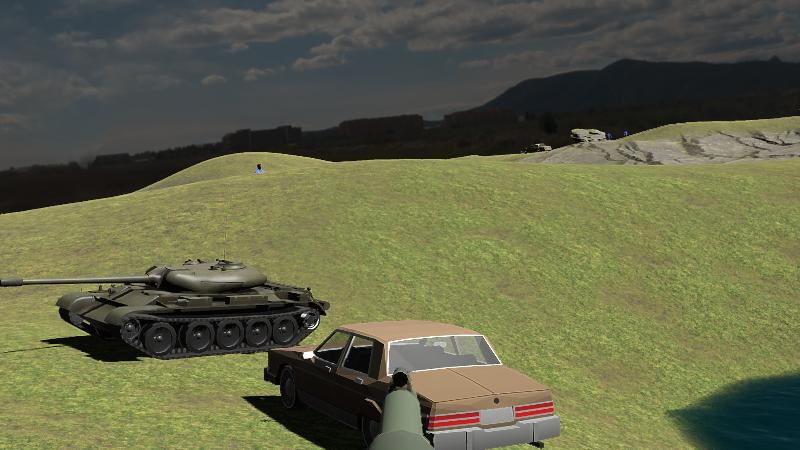Tank: (1, 257, 328, 360)
car: (263, 322, 561, 448)
